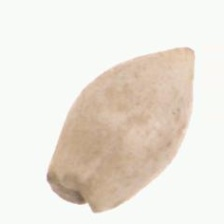L1: (46, 172, 101, 214), (169, 44, 197, 70)
L2: (46, 47, 196, 212)
